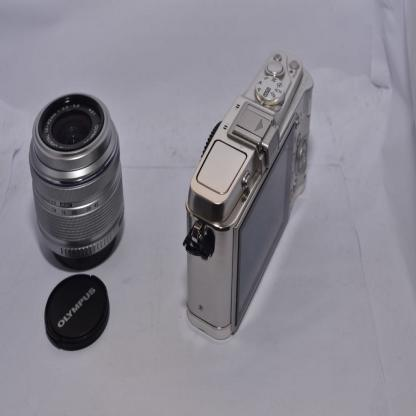Camera: (185, 51, 316, 340), (27, 84, 136, 279)
